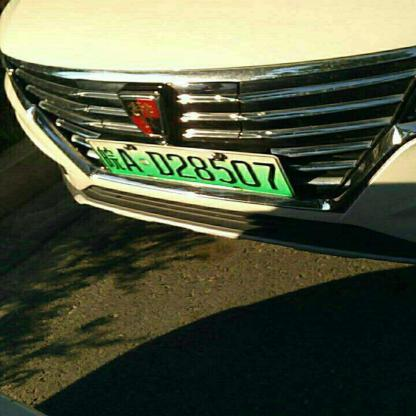lp: (85, 141, 294, 193)
